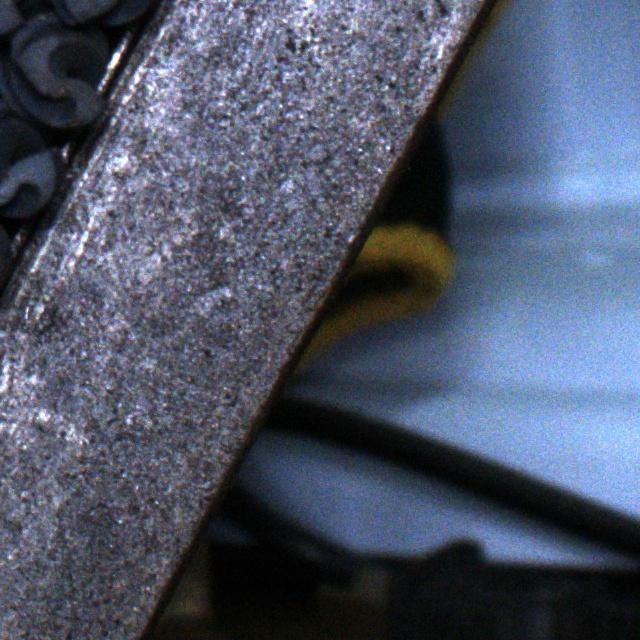tool_b: (1, 2, 109, 130), (0, 98, 56, 216), (32, 0, 164, 26)
